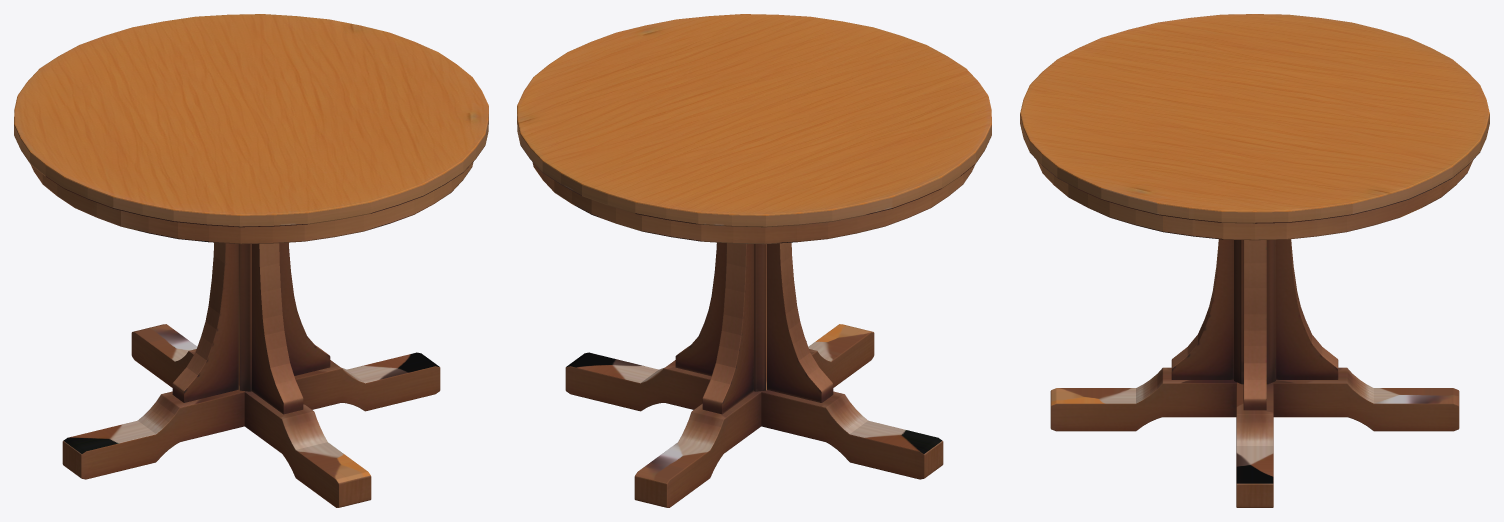
The model's file is edited_mesh.glb.
The picture shows the model from 3 angles, left to right: view 1: azimuth 30°, elevation 25°; view 2: azimuth 150°, elevation 25°; view 3: azimuth 270°, elevation 25°; orthographic projection.
Parts seen in each view (by area): view 1: normalized_model.obj; view 2: normalized_model.obj; view 3: normalized_model.obj.
Boxes of the visible parts, x1,y1,x2,y2 form: normalized_model.obj: (14, 14, 488, 507); normalized_model.obj: (517, 14, 991, 507); normalized_model.obj: (1020, 14, 1489, 507).
Bounding box in the file's own units: 1.62 × 1.19 × 1.62.
Materials: 1 (1 with a texture image).
